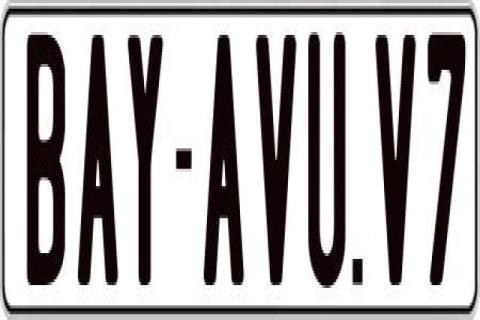0: (428, 29, 462, 291)
A: (202, 29, 250, 288), (78, 32, 121, 282)
B: (25, 27, 69, 280)
U: (308, 29, 352, 291)
V: (256, 35, 302, 291), (372, 26, 417, 282)
Y: (128, 29, 166, 279)
